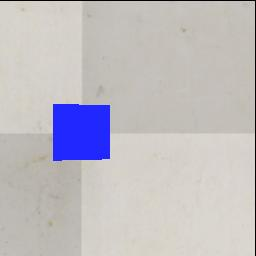box: (53, 103, 110, 162)
